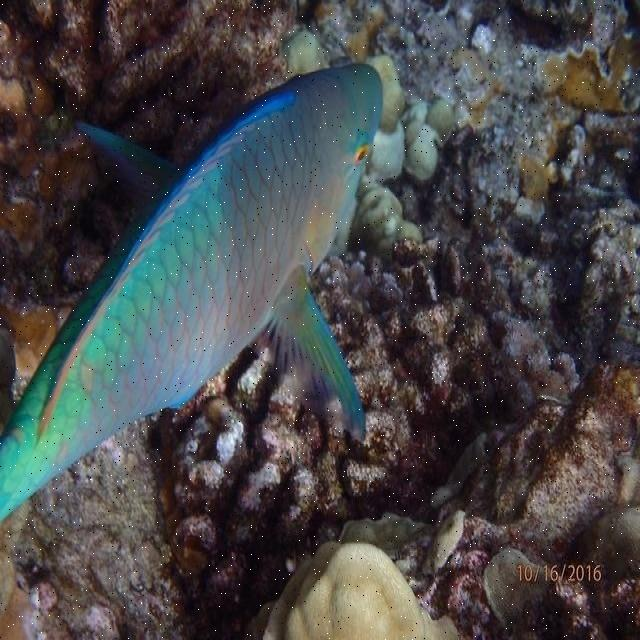fish: (0, 64, 384, 527)
reefs: (150, 235, 580, 639), (0, 1, 299, 305)
